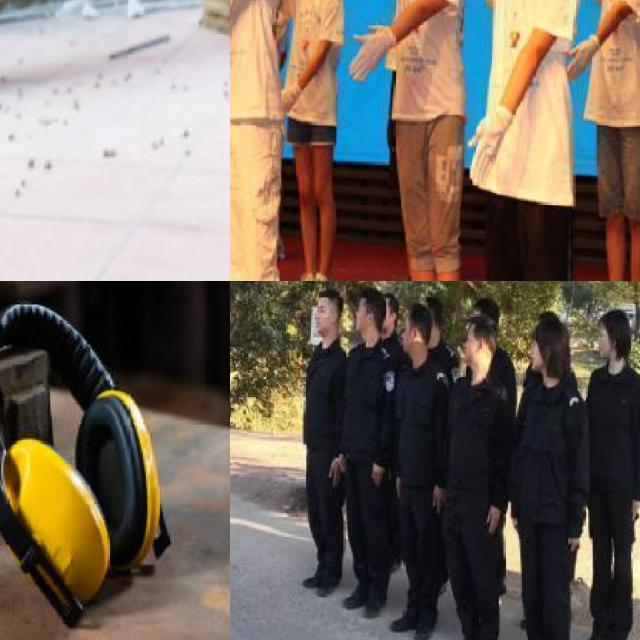Ear-protection: (0, 285, 185, 607)
face_nomask: (308, 299, 336, 335)
hand_glove: (466, 110, 504, 195), (348, 27, 384, 84), (566, 34, 598, 82)
hand_noglove: (484, 505, 501, 533), (369, 462, 384, 487), (431, 487, 445, 513), (328, 456, 340, 485), (566, 533, 580, 551), (392, 474, 403, 496), (631, 497, 640, 522), (511, 514, 519, 532), (337, 454, 345, 470)
head_nohelmet: (525, 327, 570, 351), (474, 296, 502, 325), (598, 311, 634, 333), (464, 315, 489, 339), (357, 286, 379, 312), (308, 290, 340, 307), (403, 307, 425, 330), (540, 311, 562, 327), (424, 296, 444, 313)
person: (403, 0, 592, 281), (375, 0, 472, 281), (511, 332, 586, 640), (449, 317, 511, 640), (276, 0, 347, 281), (288, 291, 350, 593), (397, 306, 452, 640), (586, 302, 640, 640), (230, 0, 293, 281), (582, 0, 640, 281), (350, 296, 392, 622)
shoes: (313, 561, 347, 597), (339, 580, 377, 610), (361, 586, 392, 621), (412, 615, 439, 640), (289, 267, 337, 281)
